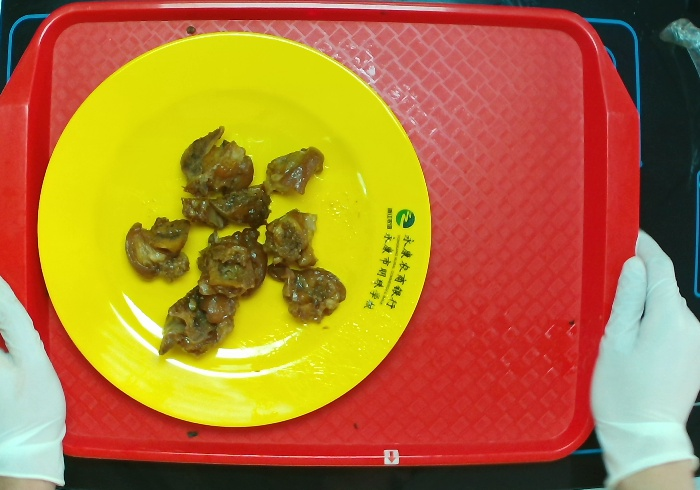YKMZ-Huang_Se_Mian_Pan: (34, 29, 434, 429)
